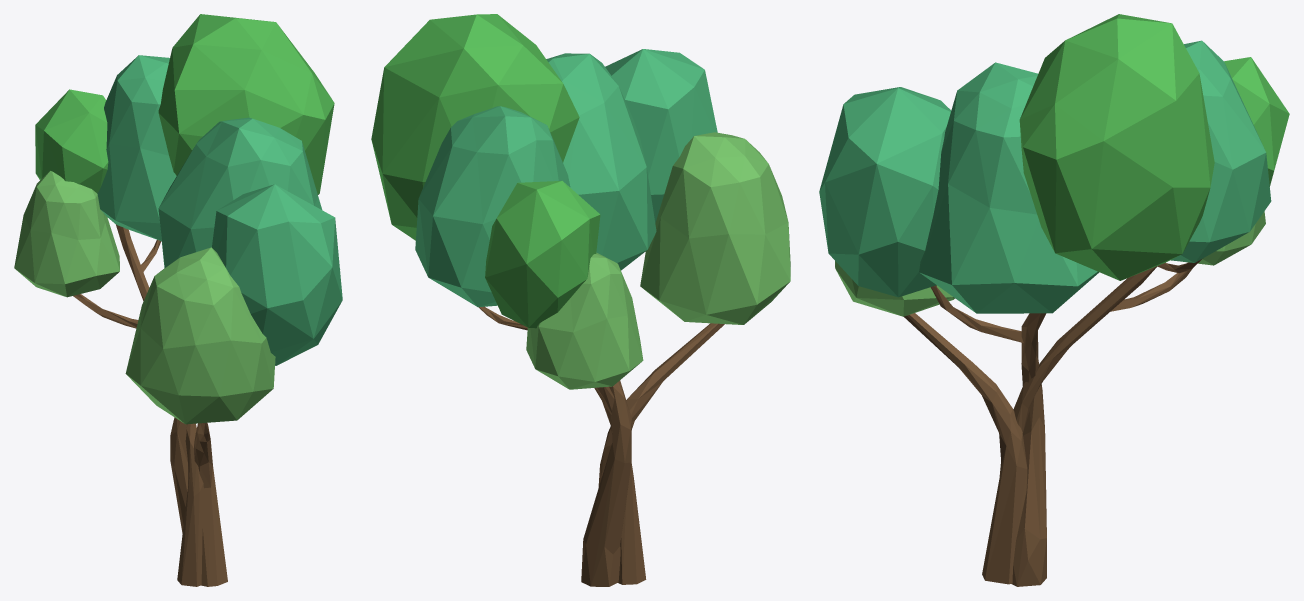
The model's file is tree5.fbx.
The picture shows the model from 3 angles, left to right: view 1: azimuth 30°, elevation 25°; view 2: azimuth 150°, elevation 25°; view 3: azimuth 270°, elevation 25°; orthographic projection. The views are drawn at different scales.
Parts seen in each view (by area): view 1: tree5_leaves, tree5_trunk; view 2: tree5_leaves, tree5_trunk; view 3: tree5_leaves, tree5_trunk.
Part boxes in pixels (x1,y1,x2,y2): tree5_leaves: (14,14,342,424); tree5_trunk: (73,224,227,586); tree5_leaves: (371,14,790,389); tree5_trunk: (479,306,724,586); tree5_leaves: (819,14,1289,316); tree5_trunk: (904,258,1203,586).
Bounding box in the file's own units: 2.7 × 5.02 × 3.56.
